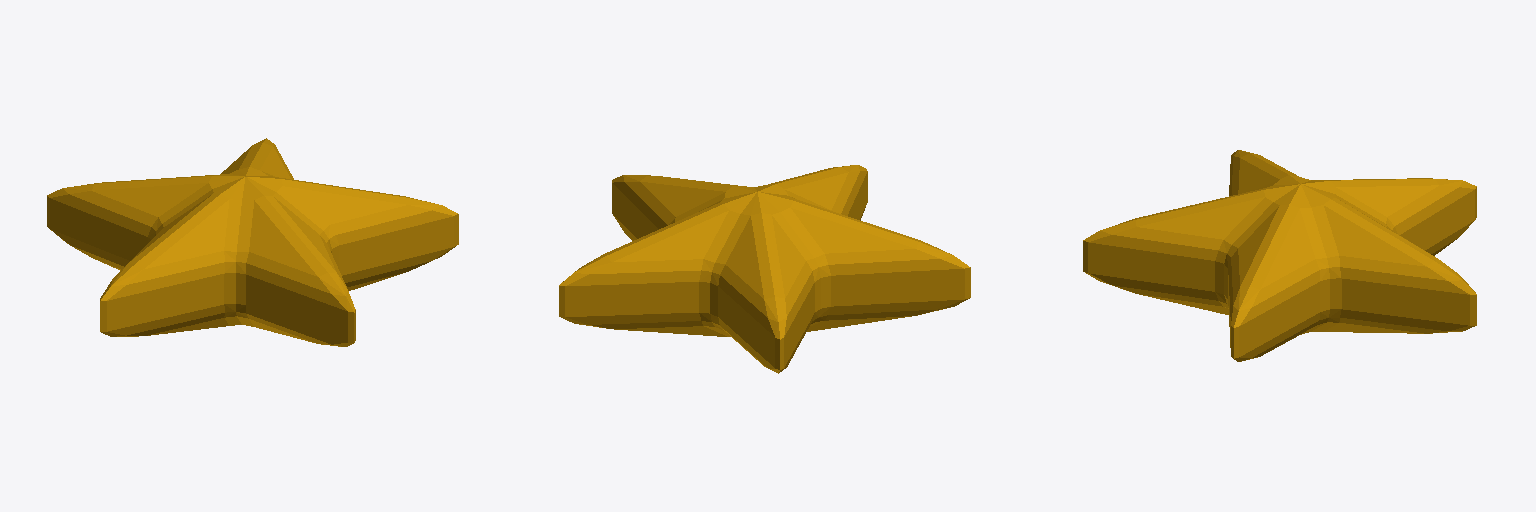
The model's file is star.obj.
The picture shows the model from 3 angles: view 1: azimuth 30°, elevation 25°; view 2: azimuth 150°, elevation 25°; view 3: azimuth 270°, elevation 25°; orthographic projection.
Parts seen in each view (by area): view 1: Cylinder; view 2: Cylinder; view 3: Cylinder.
Boxes of the visible parts, box(x1,y1,x2,y2) form: Cylinder: box(47, 138, 458, 346); Cylinder: box(559, 165, 970, 373); Cylinder: box(1083, 150, 1476, 361).
Size of the model in its own units: 1.84 by 0.7043 by 1.75.